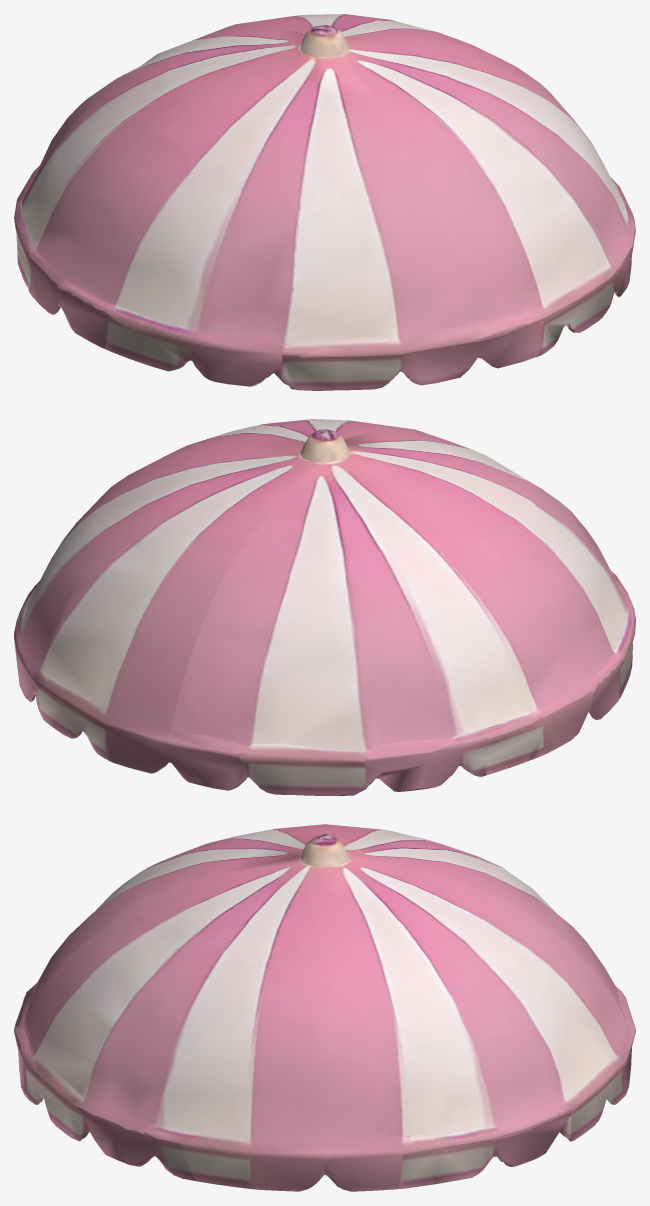
File: parasol_v2.glb
3 views of the same model, one above another, from view 1: azimuth 30°, elevation 25°; view 2: azimuth 150°, elevation 25°; view 3: azimuth 270°, elevation 25° (orthographic).
Parts seen in each view (by area): view 1: tmperjqyyo9.ply; view 2: tmperjqyyo9.ply; view 3: tmperjqyyo9.ply.
Part boxes in pixels (x1,y1,x2,y2): tmperjqyyo9.ply: [14, 14, 635, 390]; tmperjqyyo9.ply: [14, 419, 635, 795]; tmperjqyyo9.ply: [14, 824, 635, 1191].
Bounding box in the file's own units: 0.8155 × 0.5015 × 0.8363.
Materials: 1 (1 with a texture image).
